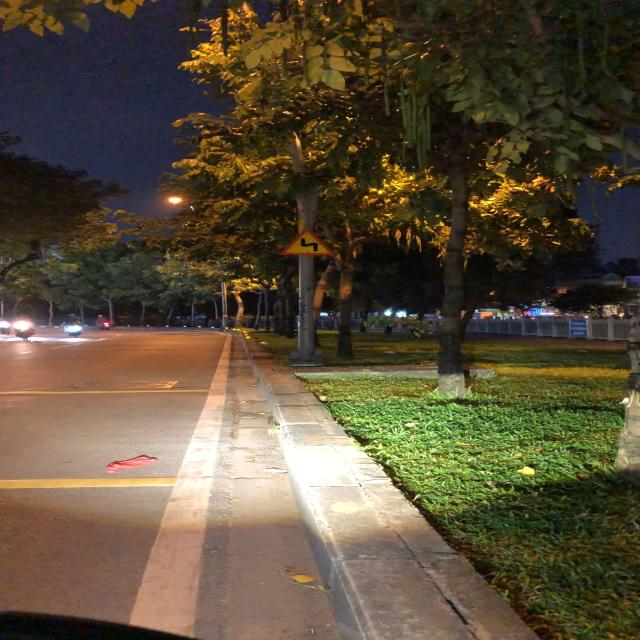Bien bao nhieu cho ngoat nguy hiem lien tiep: (276, 224, 341, 259)
